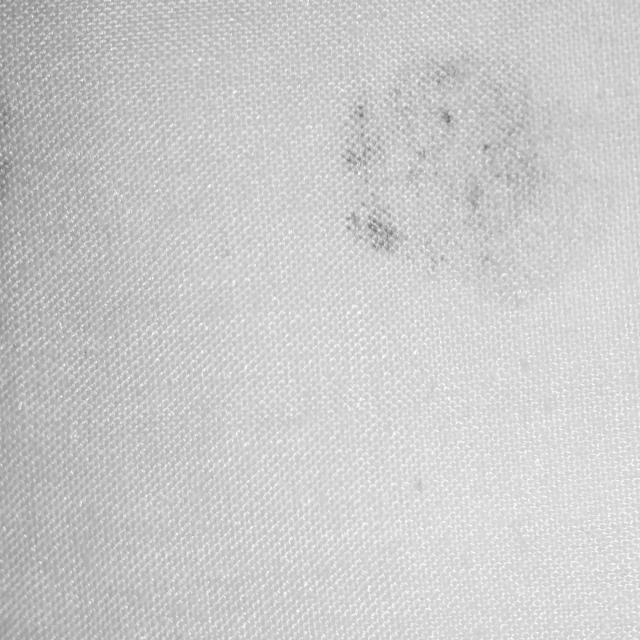Stain: (342, 53, 556, 302)
